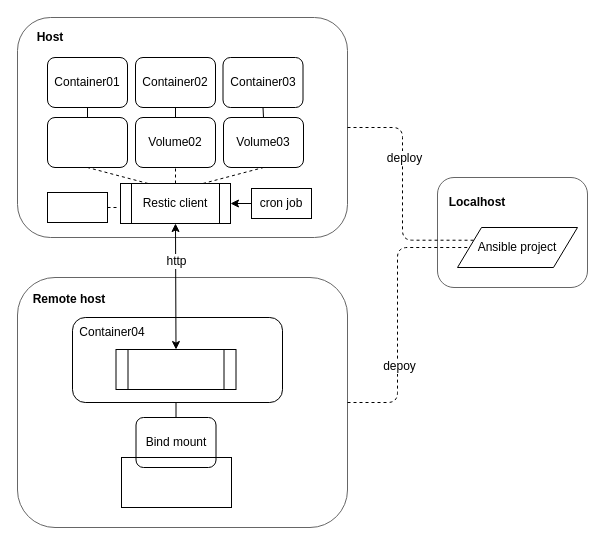
The diagram is 605 pixels wide and 545 high, and some of its shapes have lost their labels. Here are the shapes that lost their labels. From the top down, the box of each, then its label:
(46, 116, 128, 168): Volume01
(46, 192, 108, 222): Host FS
(115, 348, 236, 390): Restic server
(120, 456, 232, 508): Attached storage
